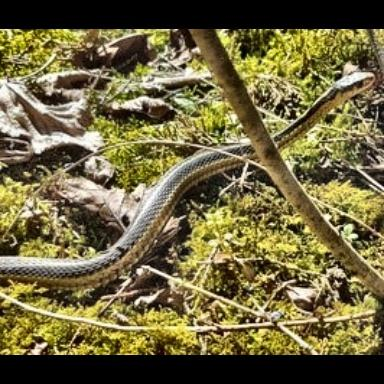snake: (0, 150, 238, 283), (273, 64, 378, 149)
